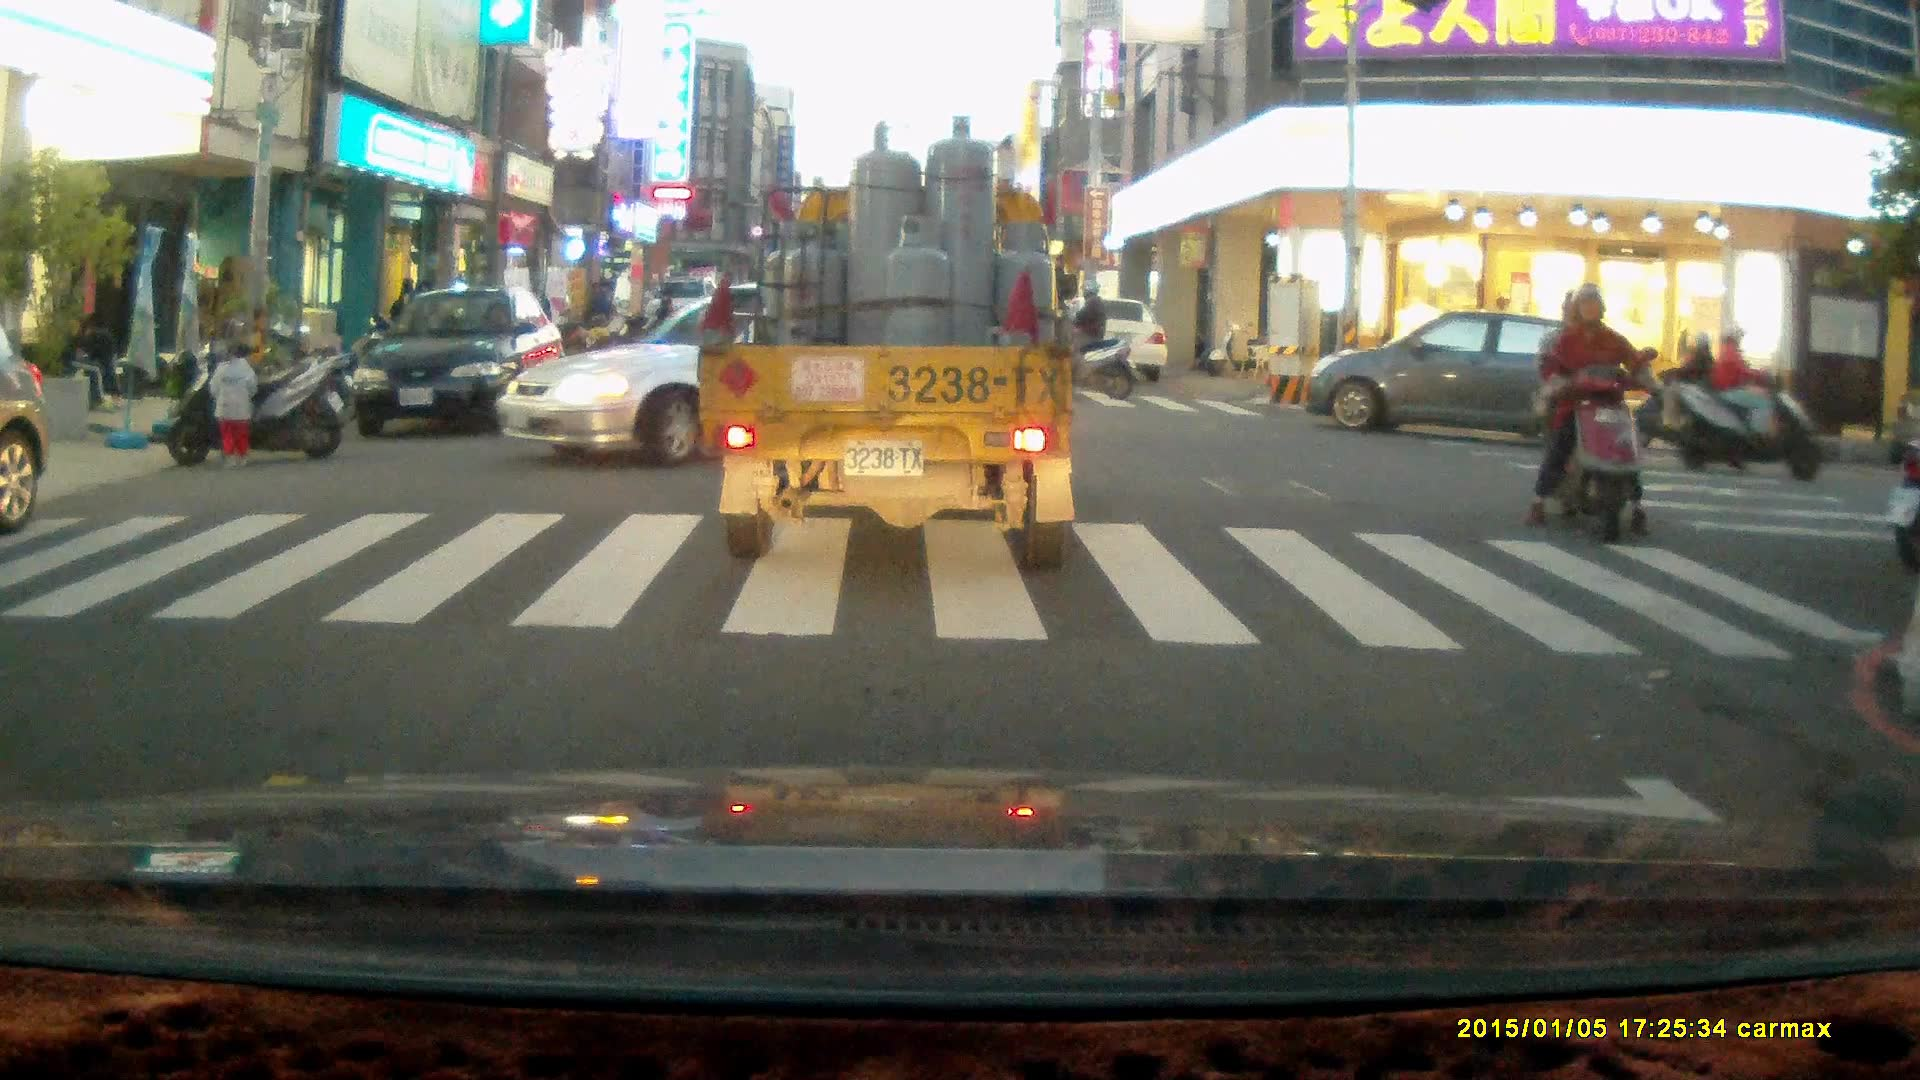pedestrian: (204, 337, 259, 466), (590, 277, 617, 339), (653, 284, 678, 342)
rider: (1520, 286, 1649, 545), (1677, 318, 1820, 479), (1632, 334, 1746, 454), (1042, 281, 1137, 402)
vehicle: (700, 116, 1078, 570), (494, 281, 1016, 459), (1291, 309, 1624, 462), (345, 286, 567, 440), (1068, 297, 1171, 383)
